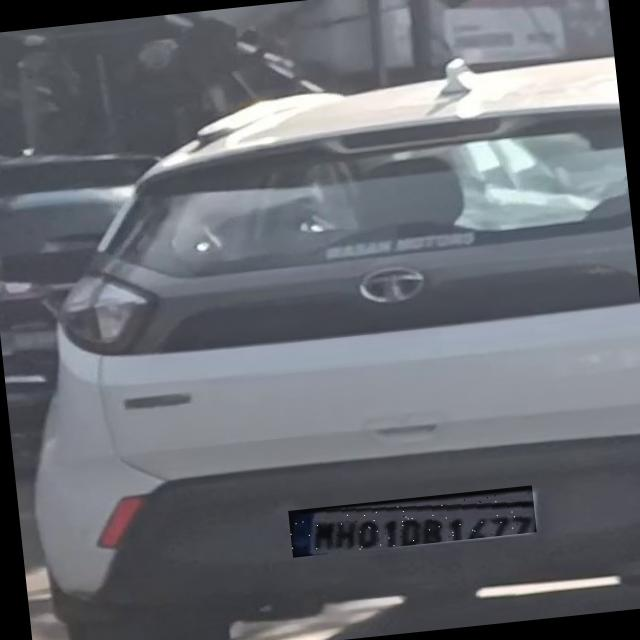Plate: (289, 486, 538, 558)
